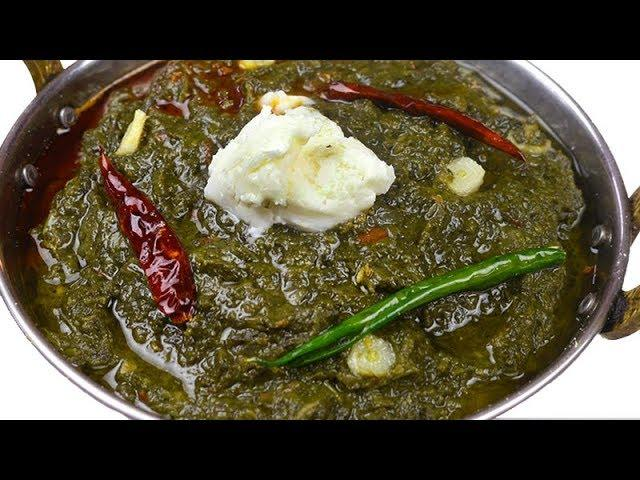saag: (27, 58, 595, 420)
